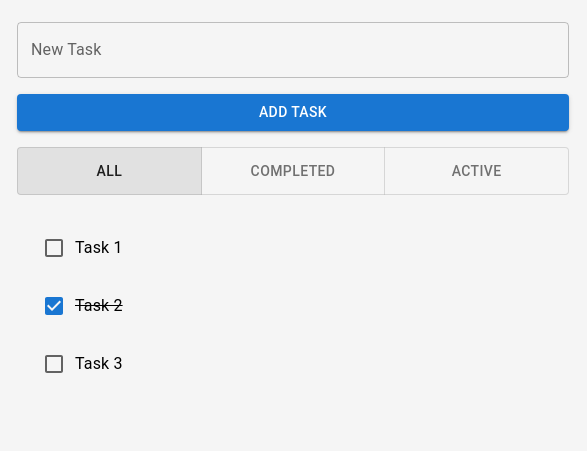
Test: Todo App › Add a new task in the list
This screenshot has width=587, height=451.
In the field labelled "New Task": (293, 50) [17,22,569,78], type "Test task"
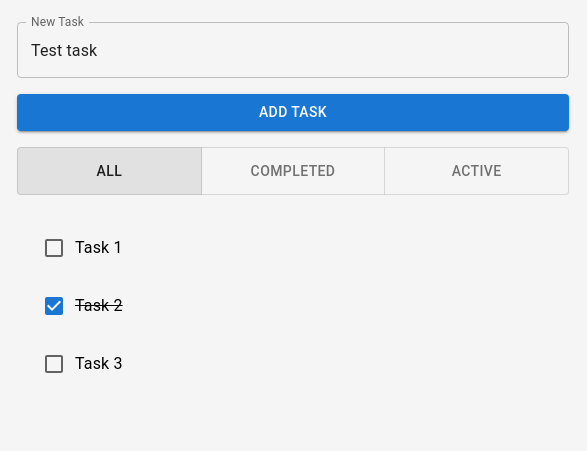
Click the button "Add Task": (293, 112) [17,94,569,130]
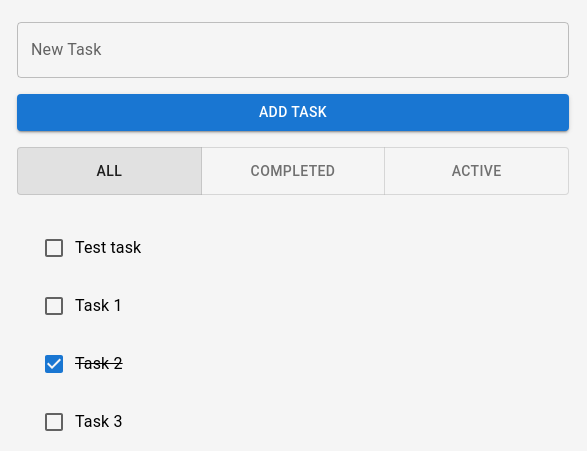
Expected: the checkbox next to "Task 3" is not checked, [42,410,66,434]
Expected: the text "Test task" is shown once, [75,238,141,257]
